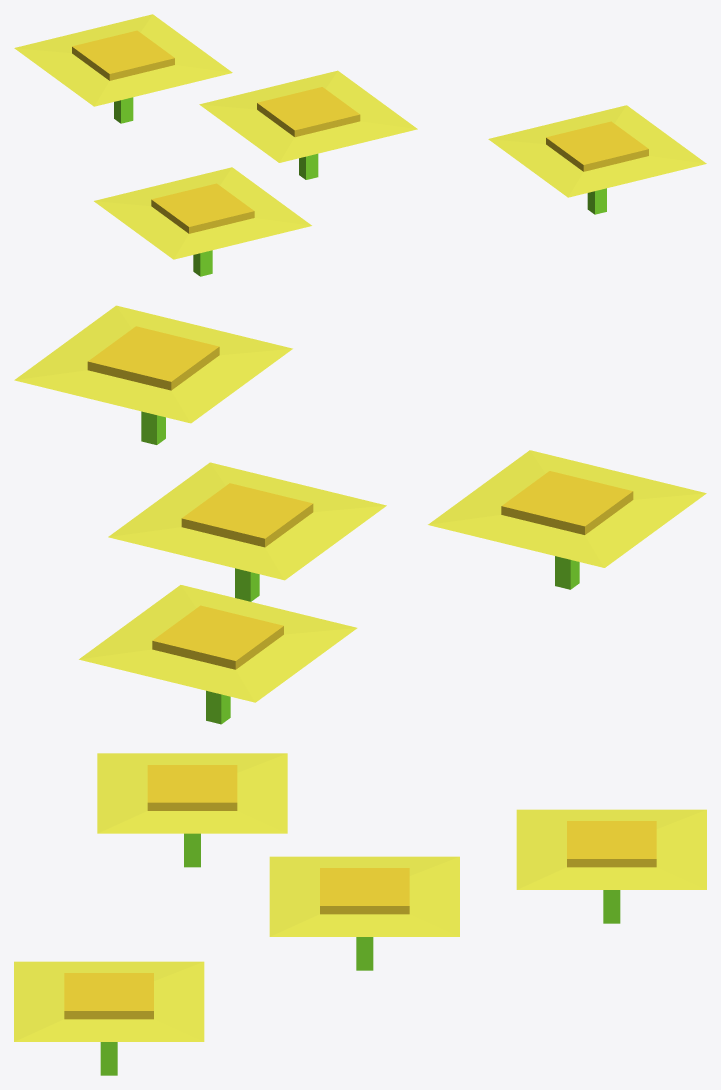
The model's file is Flower_Yellow.fbx.
The picture shows the model from 3 angles, top to bottom: view 1: azimuth 30°, elevation 25°; view 2: azimuth 150°, elevation 25°; view 3: azimuth 270°, elevation 25°; orthographic projection. The views are drawn at different scales.
Visible parts, largest first — view 1: Cube.003, Cube, Cube.001, Cube.002; view 2: Cube.001, Cube, Cube.002, Cube.003; view 3: Cube, Cube.001, Cube.003, Cube.002.
Part boxes in pixels (x1,y1,x2,y2): Cube.003: (14, 14, 232, 123); Cube: (199, 70, 417, 179); Cube.001: (488, 105, 706, 214); Cube.002: (94, 167, 311, 276); Cube.001: (14, 305, 292, 444); Cube: (108, 462, 386, 601); Cube.002: (428, 450, 706, 589); Cube.003: (79, 585, 357, 724); Cube: (269, 856, 459, 970); Cube.001: (14, 961, 204, 1075); Cube.003: (516, 809, 706, 923); Cube.002: (97, 753, 287, 867).
Size of the model in its own units: 0.9192 by 0.1189 by 0.9326.
